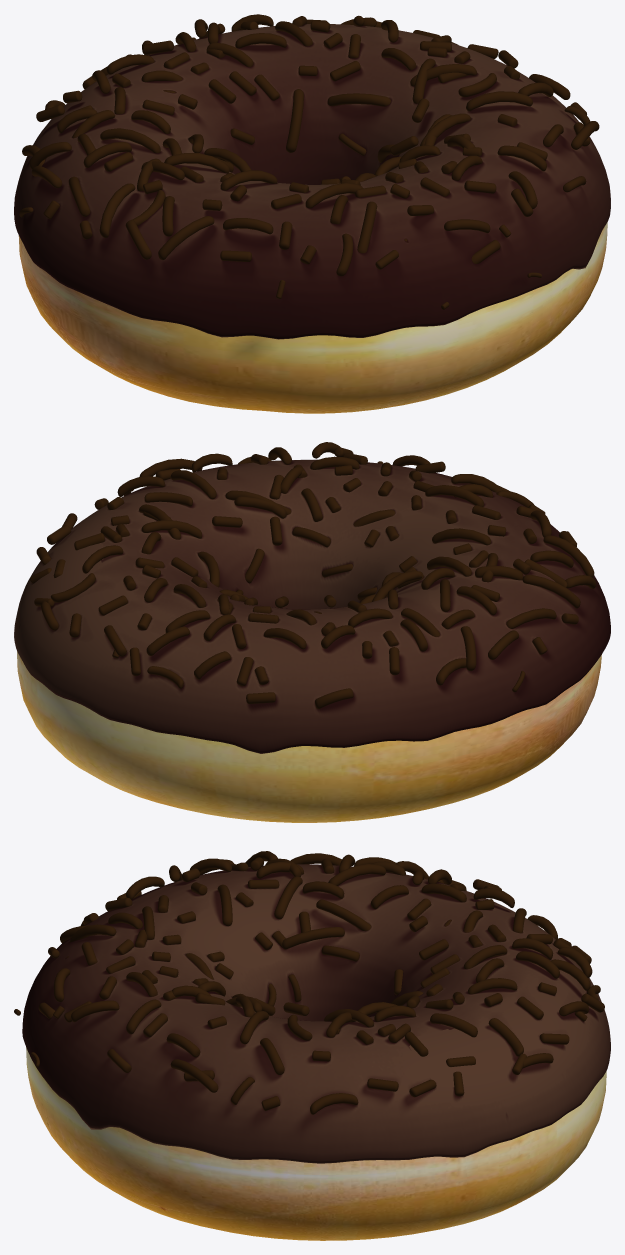
The model's file is dark chocolate vermicheli.glb.
3 renders of one model, top to bottom at view 1: azimuth 30°, elevation 25°; view 2: azimuth 150°, elevation 25°; view 3: azimuth 270°, elevation 25°, orthographic. The views are drawn at different scales.
Parts seen in each view (by area): view 1: coffee.001, dark, blue.002, Torus; view 2: dark, coffee.001, blue.002, Torus; view 3: dark, coffee.001, Torus, blue.002.
Part boxes in pixels (bbox=[...]): coffee.001: bbox=[14, 24, 610, 338]; dark: bbox=[14, 24, 610, 339]; blue.002: bbox=[19, 14, 599, 309]; Torus: bbox=[18, 222, 607, 413]; dark: bbox=[14, 460, 604, 753]; coffee.001: bbox=[14, 459, 610, 753]; blue.002: bbox=[30, 442, 596, 709]; Torus: bbox=[17, 651, 601, 822]; dark: bbox=[24, 864, 610, 1163]; coffee.001: bbox=[22, 864, 610, 1163]; Torus: bbox=[26, 1047, 606, 1240]; blue.002: bbox=[14, 851, 604, 1114].
Size of the model in its own units: 0.1989 by 0.0773 by 0.2.
4 materials, 2 textured.
